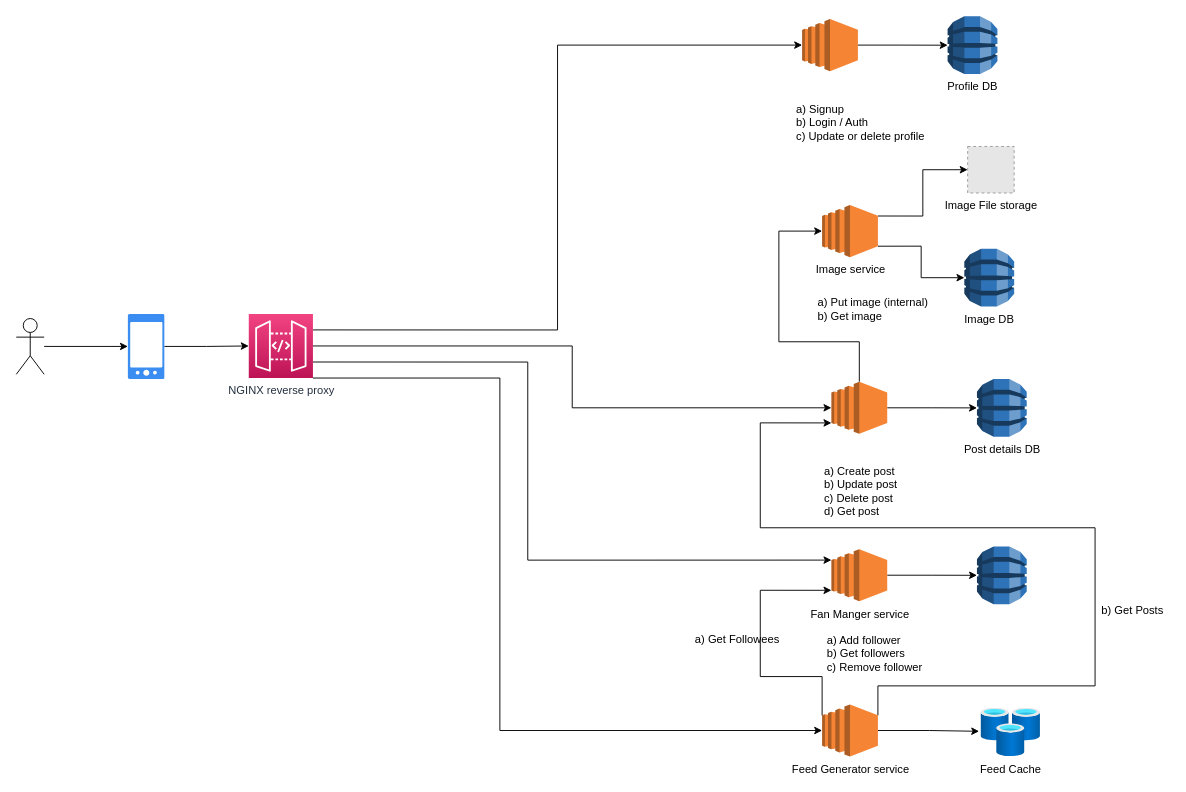
Image size: 1186x792. Some labels were removed from this diagram. Grey dashed boxes stand in for pictures. The shapes that lost their labels are listed below. From the top down, each one's box as (x1, y1, x2, y2) in pixels, then its label:
(801, 18, 858, 71): Profile service
(15, 318, 44, 374): Actor
(830, 381, 887, 434): Post Manger service
(976, 545, 1027, 604): Followers DB
